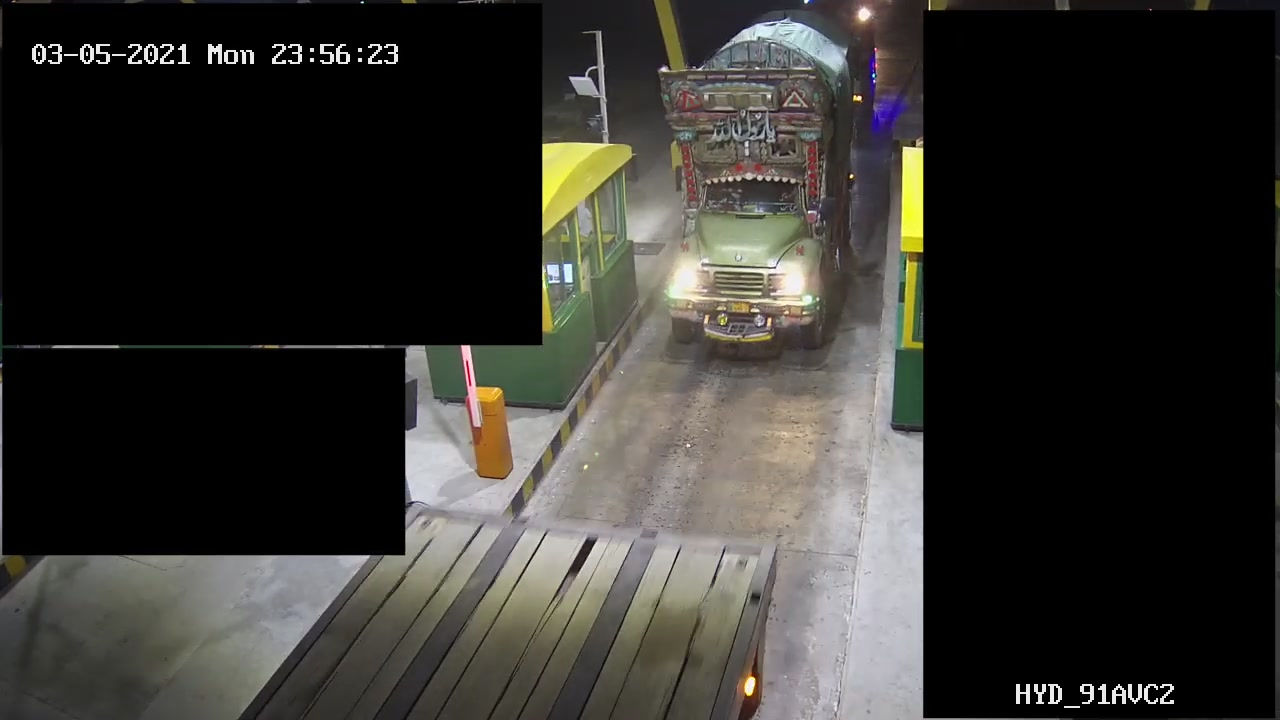F5: (658, 10, 853, 355)
